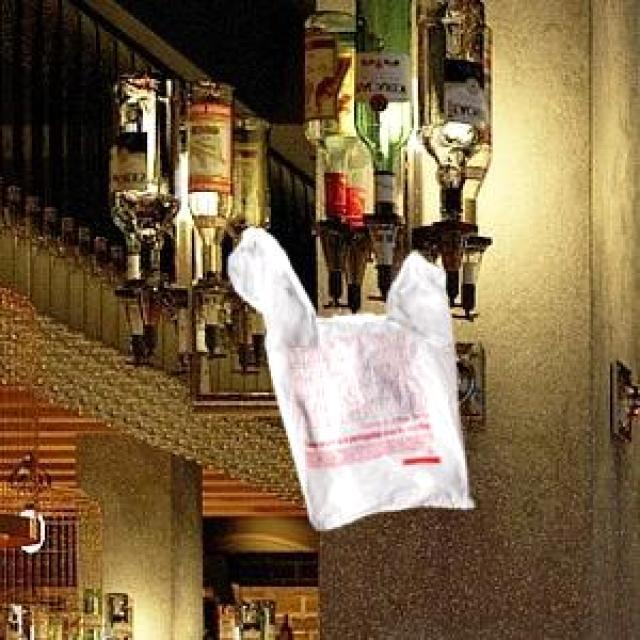Plastic_Bag: (224, 225, 470, 526)
